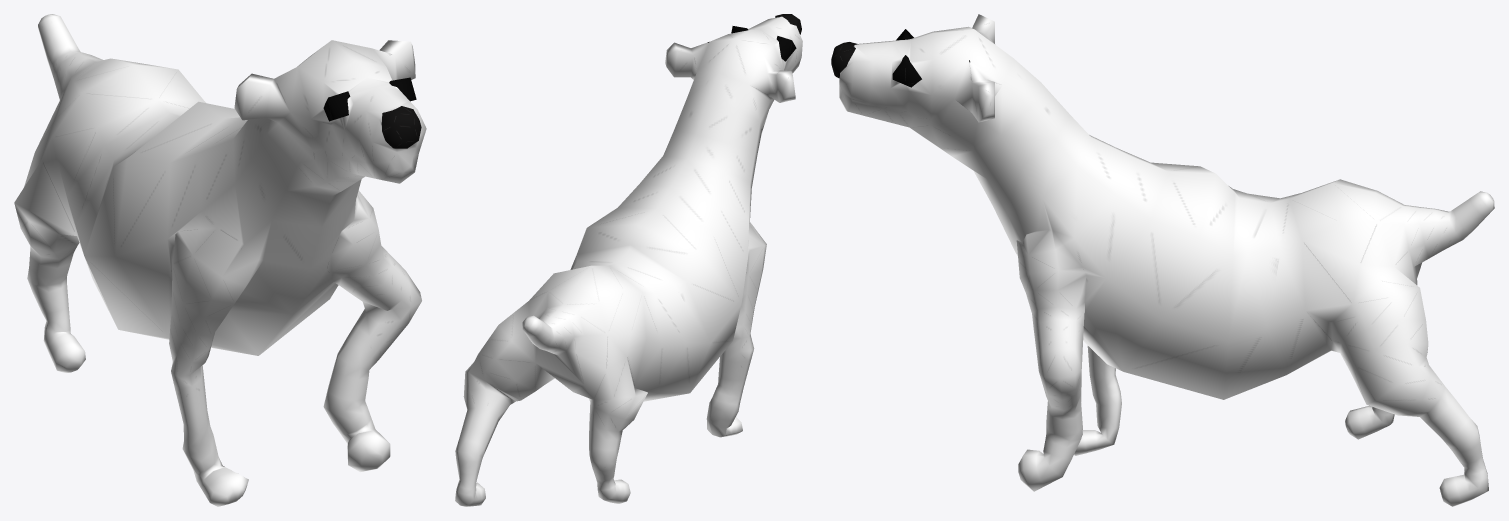
Rendered from dog.fbx.
The picture shows the model from 3 angles, left to right: view 1: azimuth 30°, elevation 25°; view 2: azimuth 150°, elevation 25°; view 3: azimuth 270°, elevation 25°; orthographic projection. The views are drawn at different scales.
Visible parts, largest first — view 1: unamed; view 2: unamed; view 3: unamed.
Part boxes in pixels (<box>): unamed: <box>14,14,426,506</box>; unamed: <box>455,14,802,506</box>; unamed: <box>831,14,1494,506</box>.
Size of the model in its own units: 0.4948 by 0.9235 by 1.24.
1 material, 1 textured.
